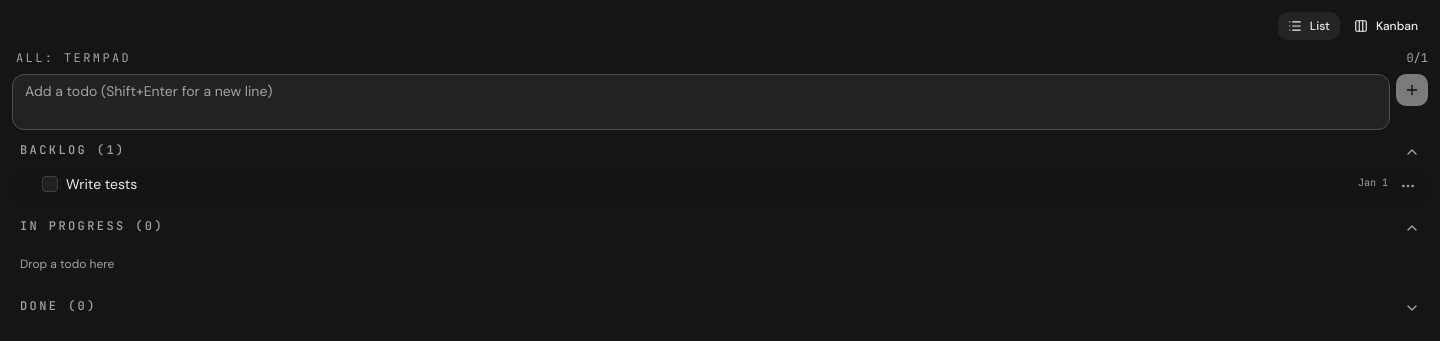
Scenario: TodosPanel › moves a completed todo into the collapsed Done accordion
Click the checkbox named "Write tests".
click(50, 184)  # box [42, 176, 58, 192]
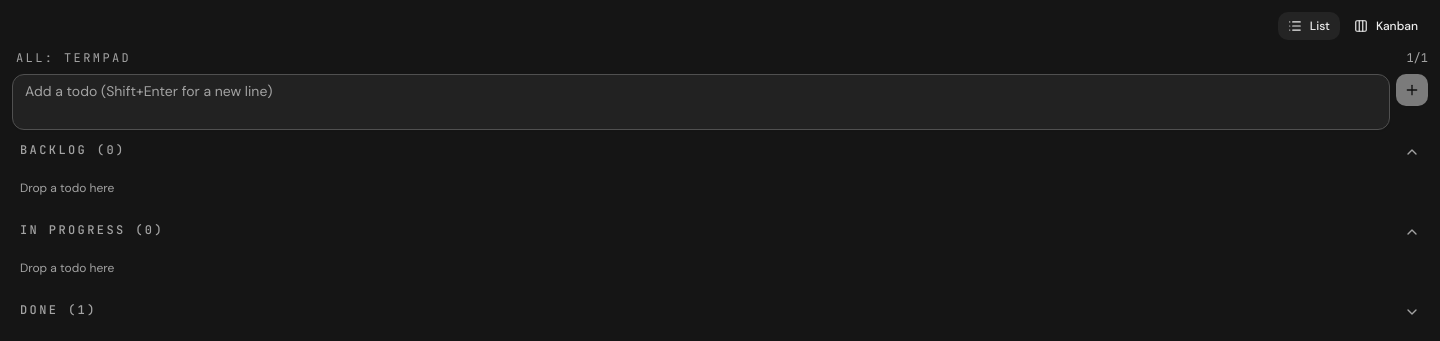
Check: the button "Write tests" is gone
Check: the button "Done (1)" is shown, box [12, 296, 1428, 324]
Check: the button "Backlog (0)" is shown, box [12, 136, 1428, 164]
